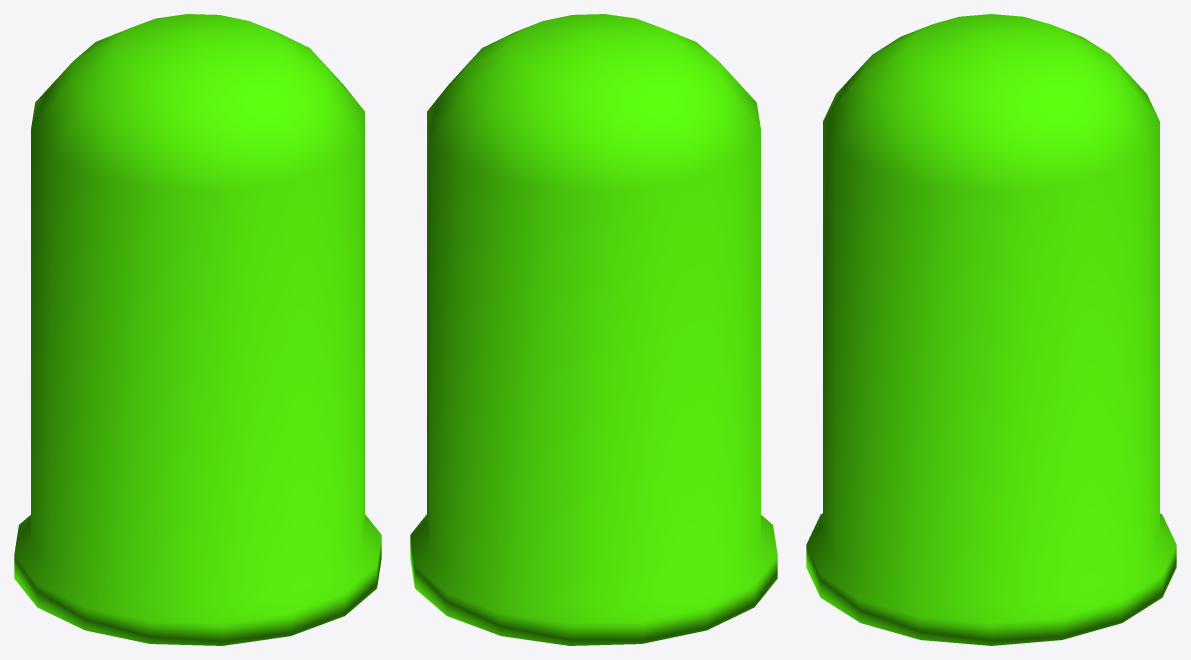
Rendered from SM_Poid_01.fbx.
3 renders of one model, left to right at view 1: azimuth 30°, elevation 25°; view 2: azimuth 150°, elevation 25°; view 3: azimuth 270°, elevation 25°, orthographic.
Visible parts, largest first — view 1: Poid_01_l; view 2: Poid_01_l; view 3: Poid_01_l.
Part boxes in pixels (left/top/right/bottom): Poid_01_l: left=14, top=14, right=381, bottom=645; Poid_01_l: left=410, top=14, right=777, bottom=645; Poid_01_l: left=806, top=14, right=1176, bottom=645.
Bounding box in the file's own units: 10.58 × 16.66 × 10.58.
